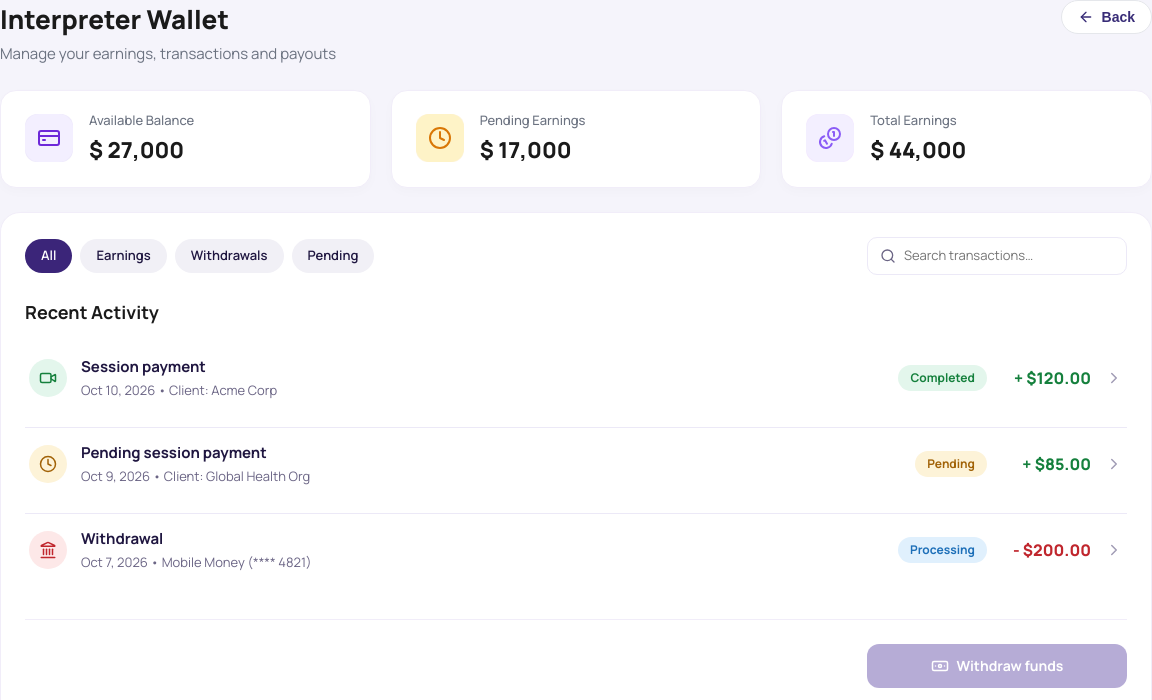
Test: InterpreterWalletPage › says when nothing matches, instead of claiming there is no history
Expected: the text "Session payment" is shown, x1=81 y1=356 x2=206 y2=376
Type "zzz" into the search field labelled "Search transactions" at (1009, 256), box x1=904 y1=246 x2=1114 y2=266
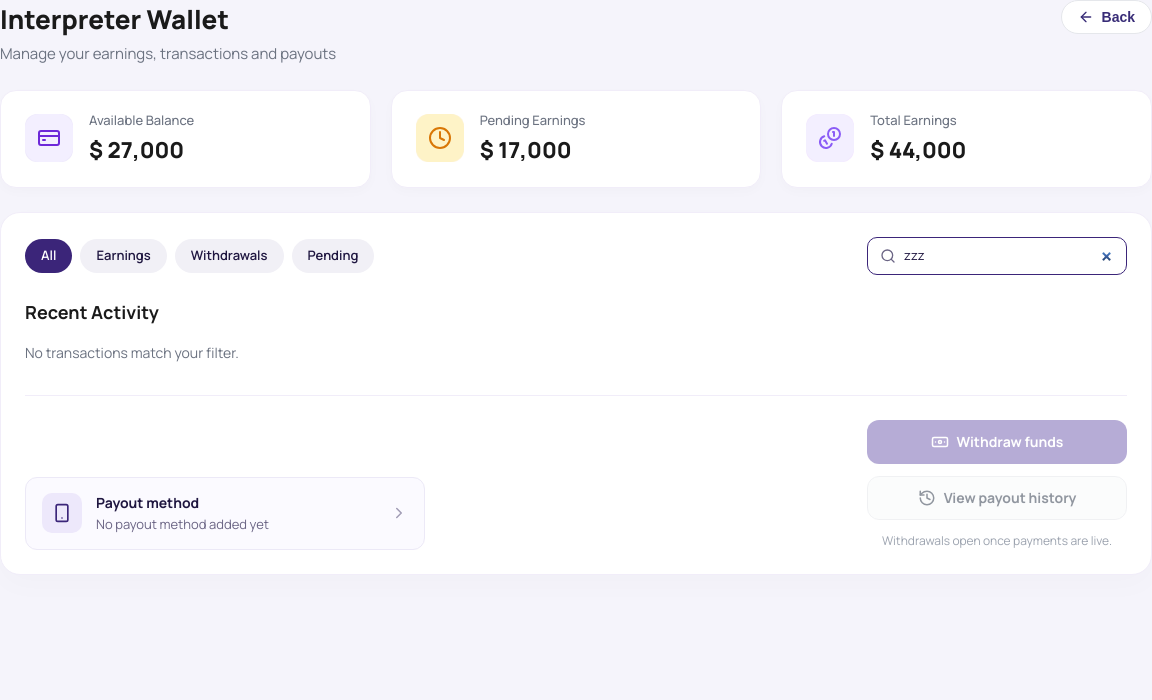
Now the text "No transactions match your filter." is shown, box x1=25 y1=342 x2=239 y2=362
